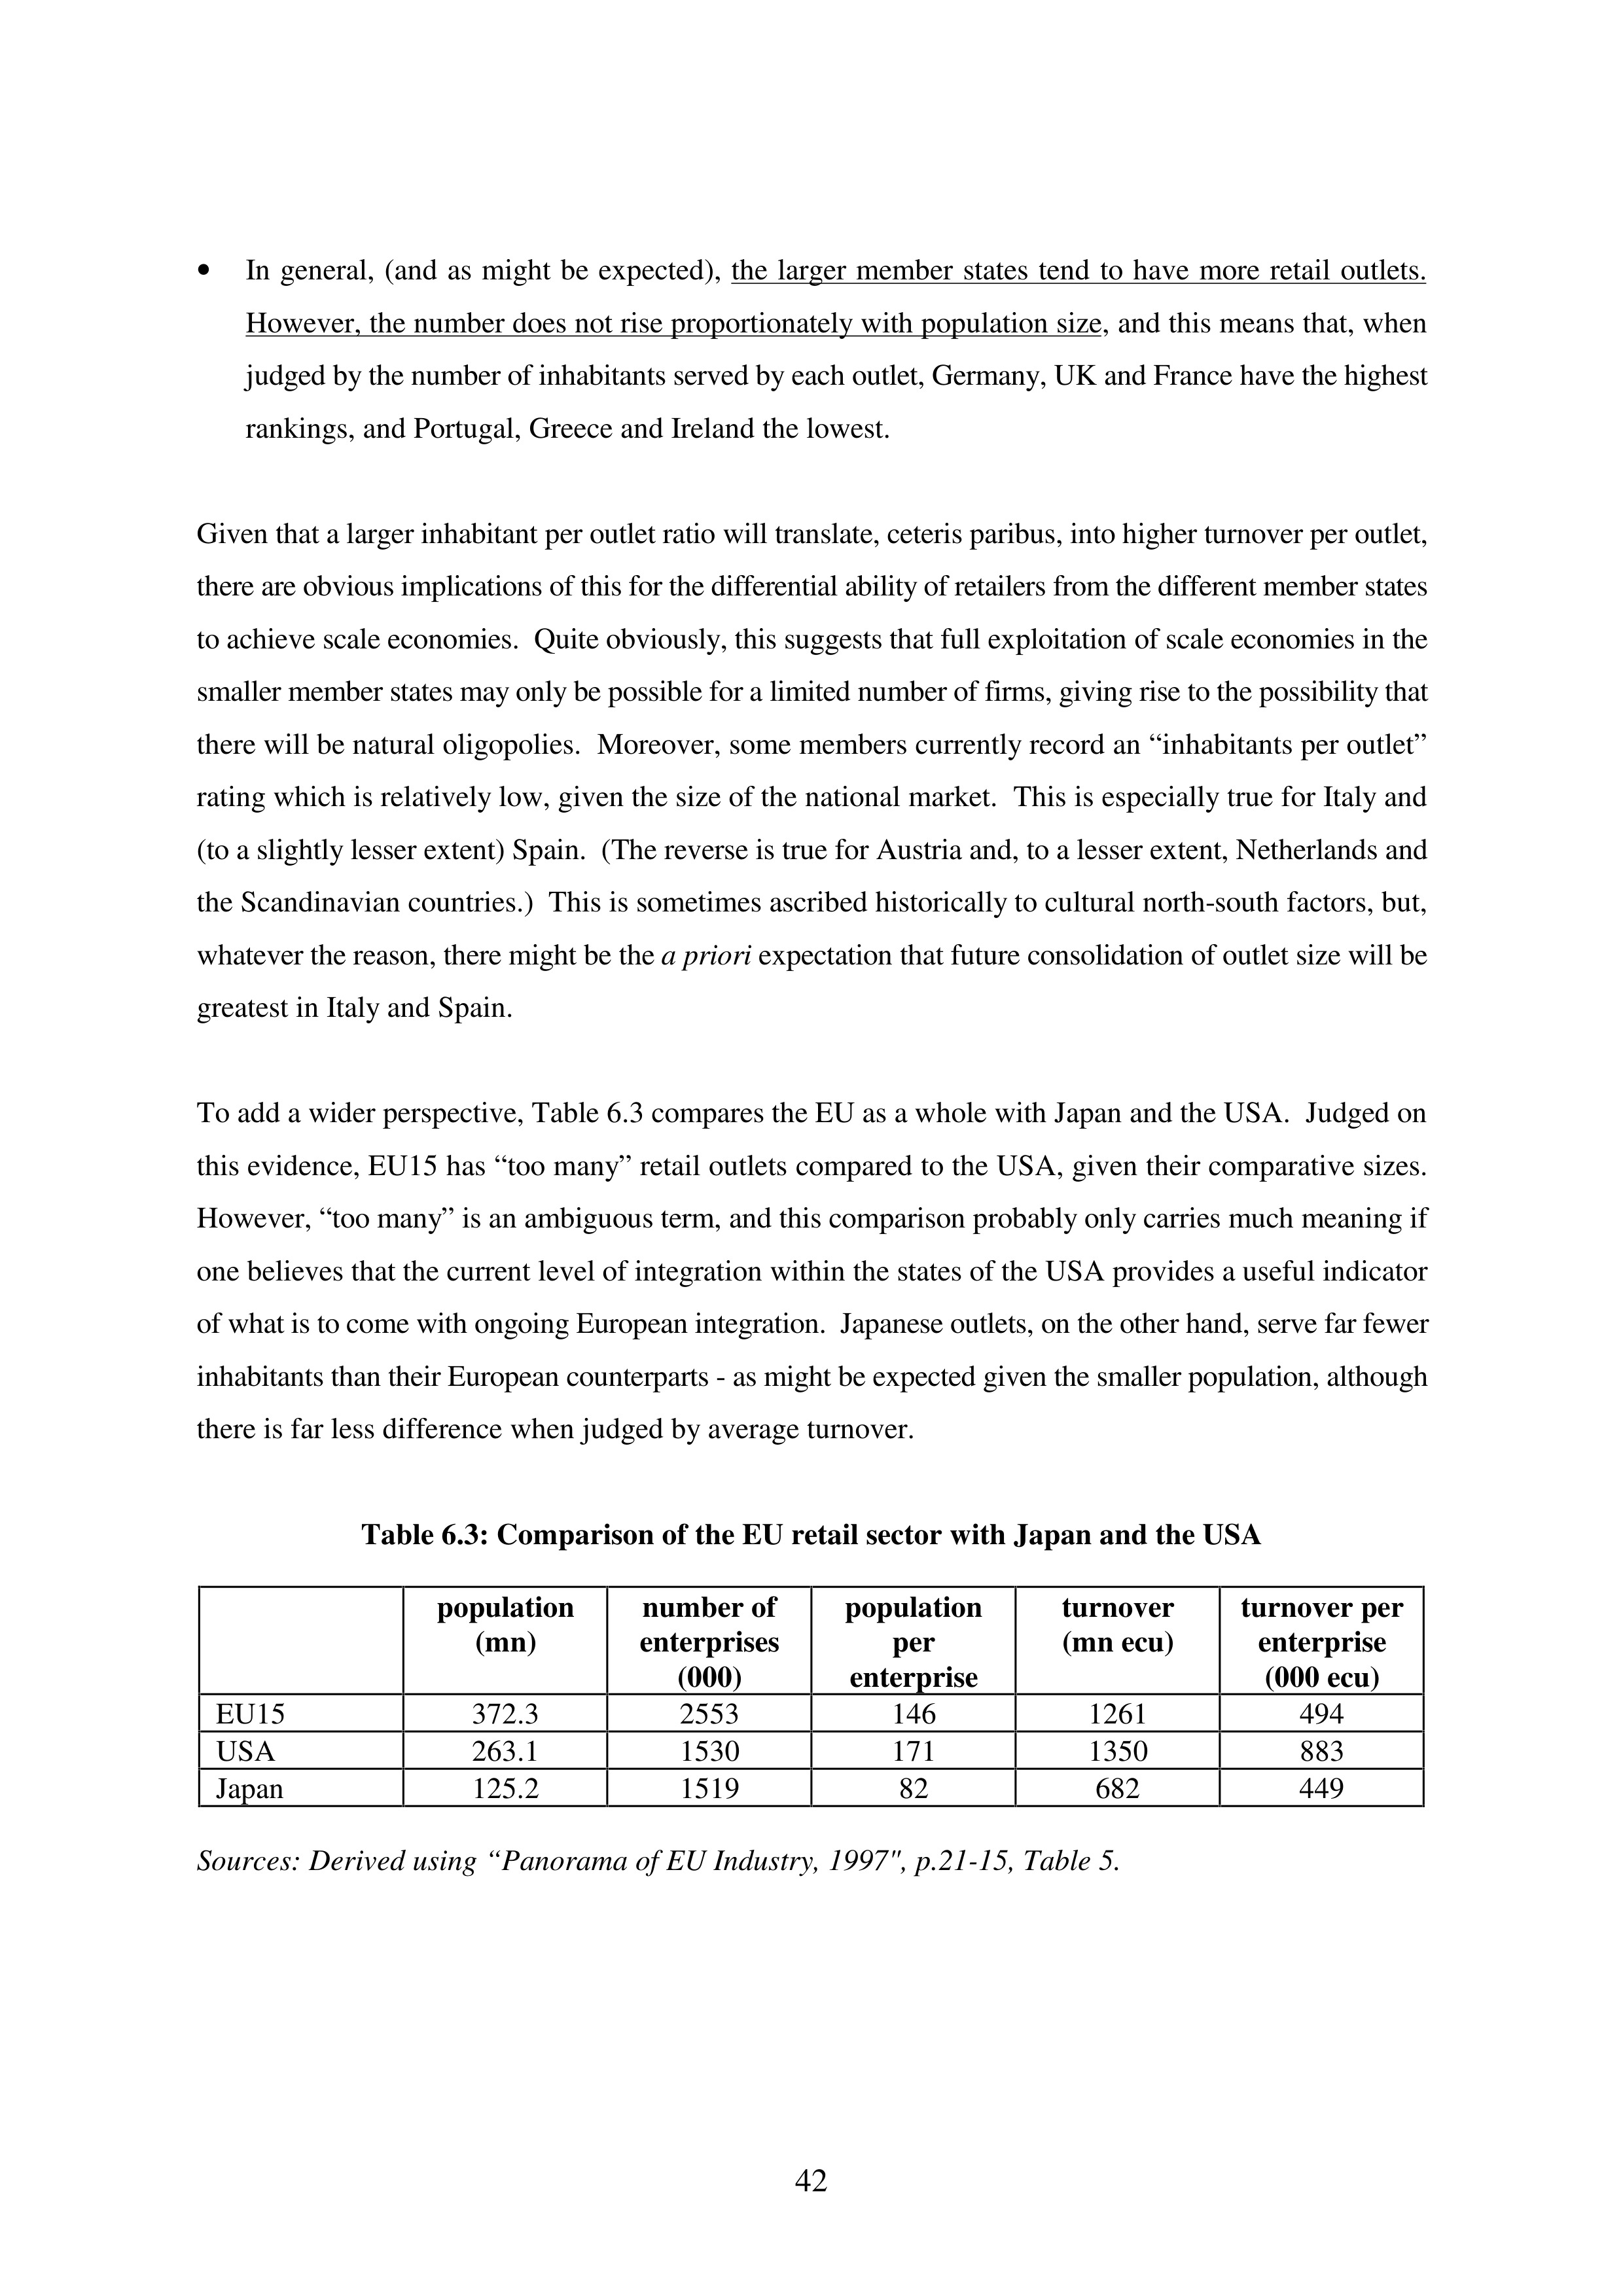table: (216, 1585, 1403, 1806)
